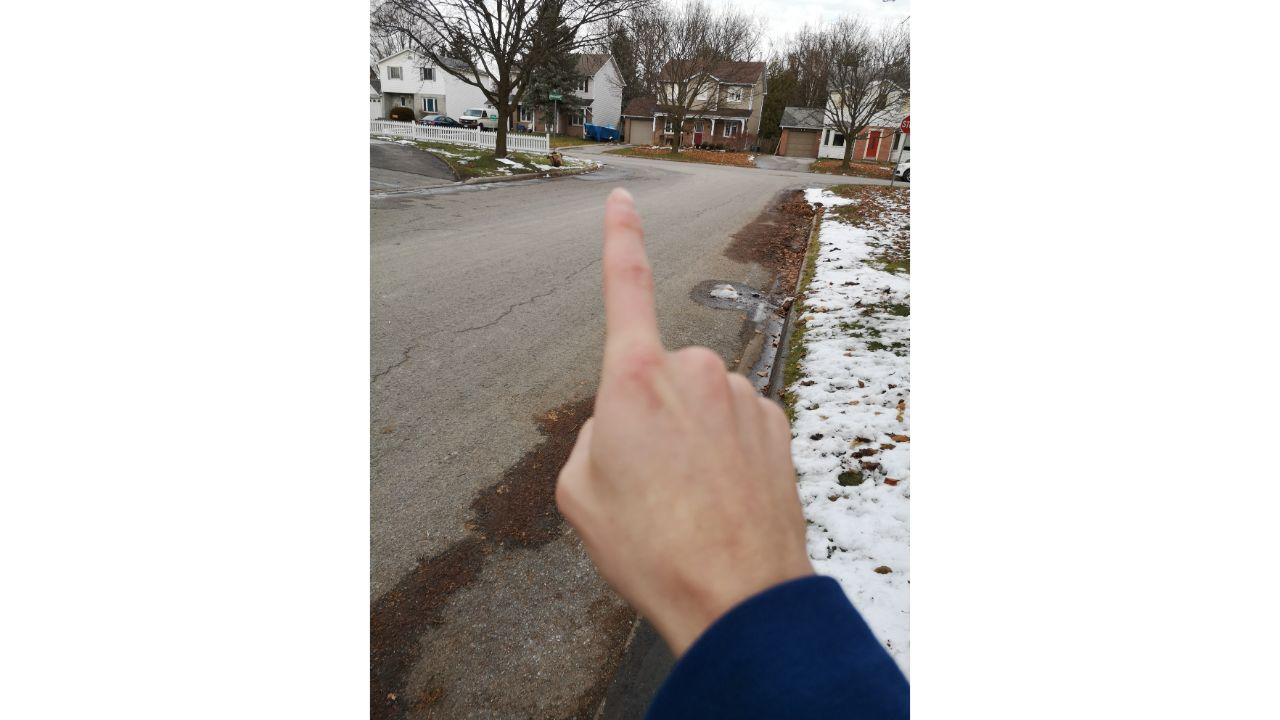finger: (554, 171, 811, 628)
